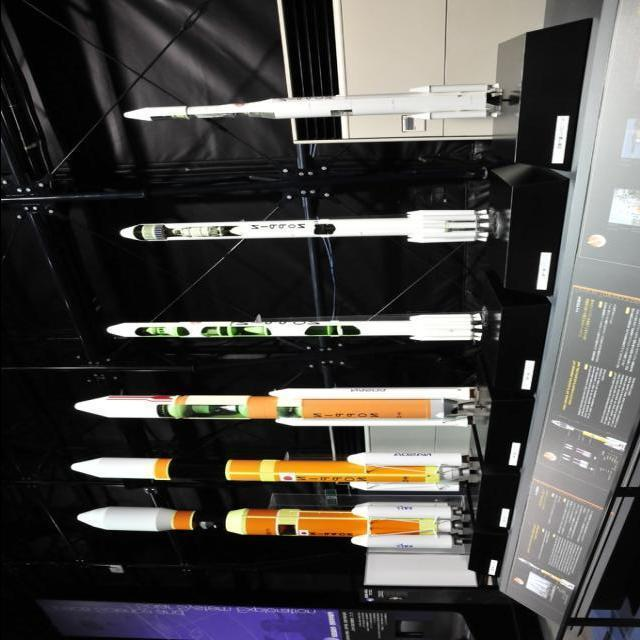missile: (65, 502, 467, 554), (112, 200, 512, 251), (62, 445, 476, 494), (70, 383, 487, 424), (104, 312, 500, 350), (121, 91, 524, 121)
